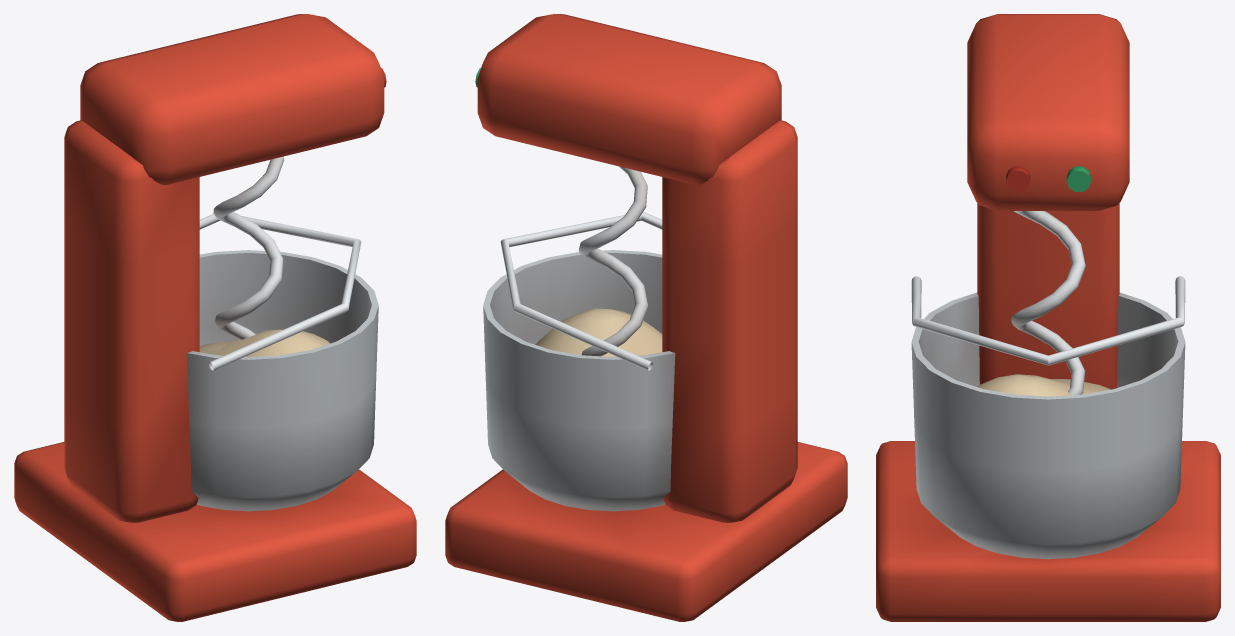
Rendered from fp-mixer.gltf.
The picture shows the model from 3 angles, left to right: view 1: azimuth 30°, elevation 25°; view 2: azimuth 150°, elevation 25°; view 3: azimuth 270°, elevation 25°; orthographic projection. The views are drawn at different scales.
Visible parts, largest first — view 1: model; view 2: model; view 3: model.
Part boxes in pixels (x1,y1,x2,y2): model: (14, 14, 416, 621); model: (445, 14, 847, 621); model: (876, 14, 1220, 621).
Size of the model in its own units: 0.331 by 0.55 by 0.34.
